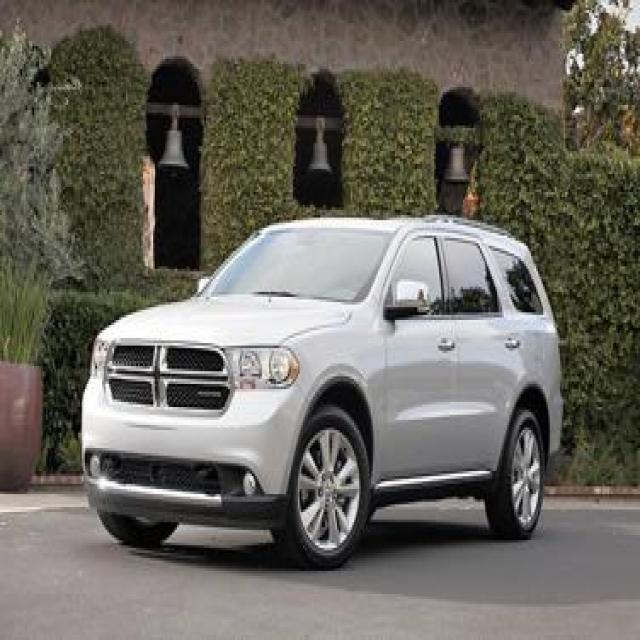Car: (70, 126, 612, 618)
